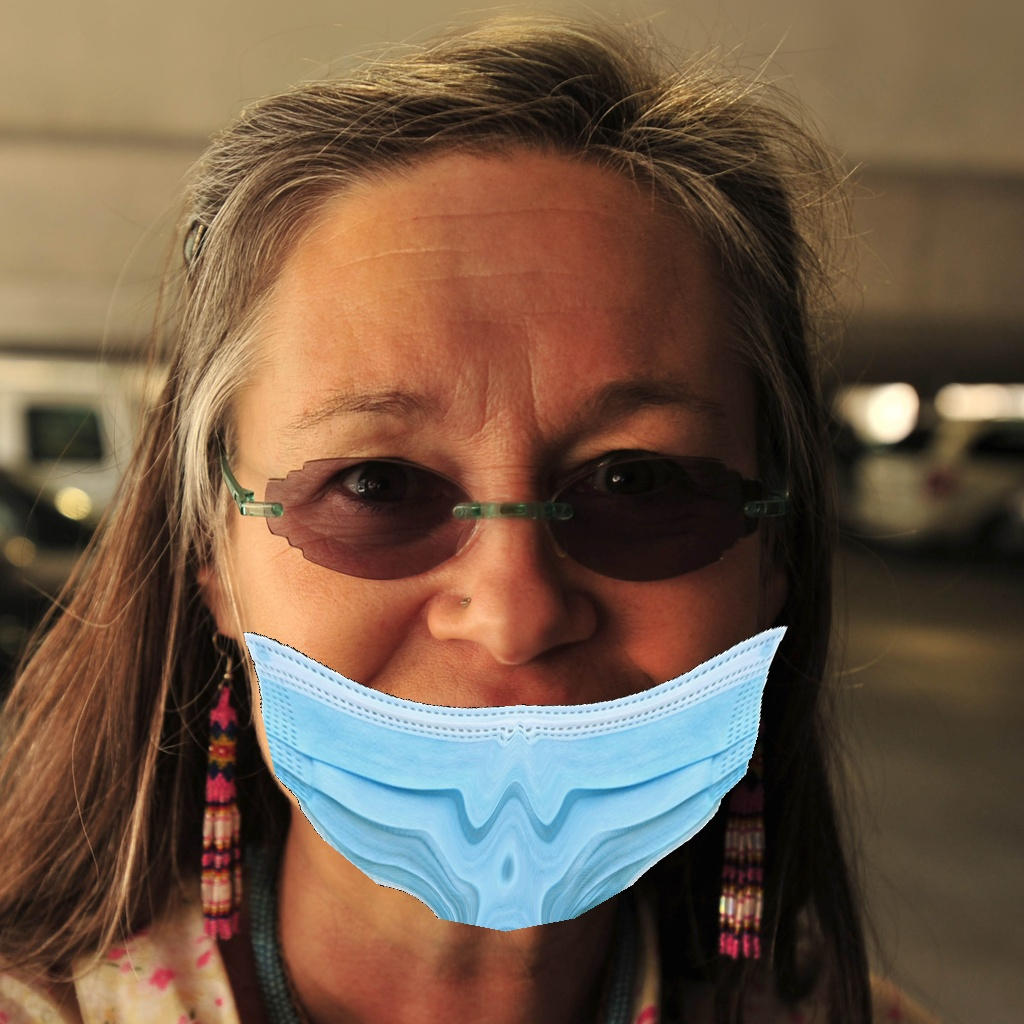mascarilla_mal_puesta: (237, 378, 809, 913)
